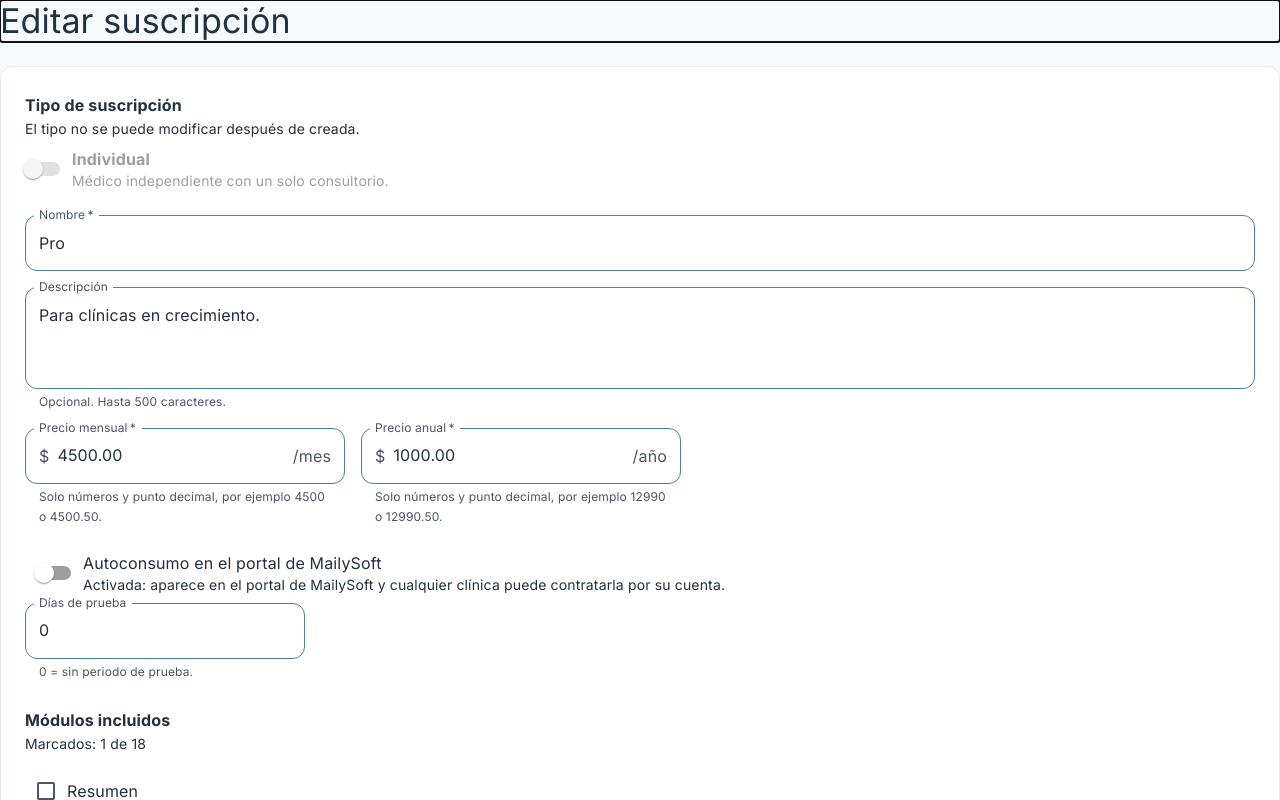
Scenario: SubscriptionEditPage › sending only what changed (FR-012) › sends null when the description was emptied, and the whole list when an element was removed
Step 1. Clear the text box labelled "Descripción" → (640, 338), box [39,304,1241,372]
(page scrolled)
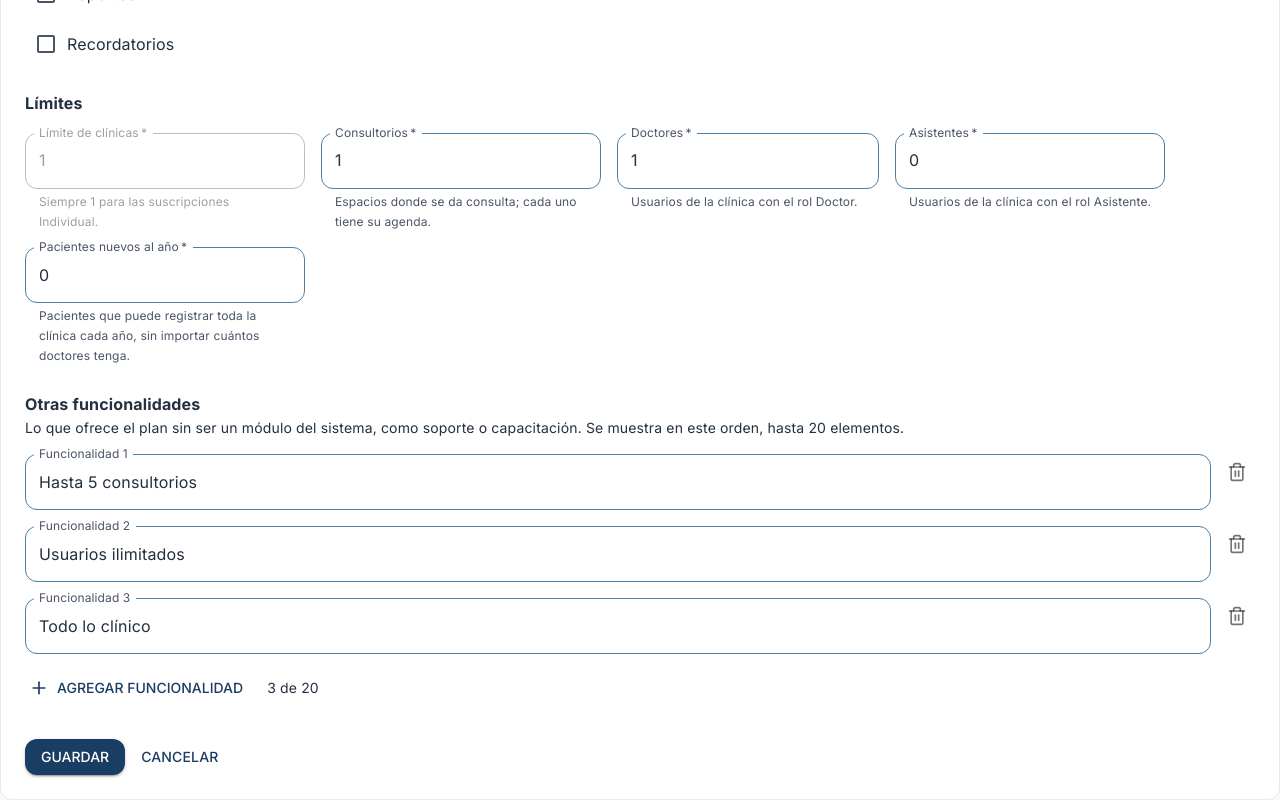
Step 2. Click the button named "Quitar la funcionalidad 2" → (1237, 544), box [1219,526,1255,562]
(page scrolled)
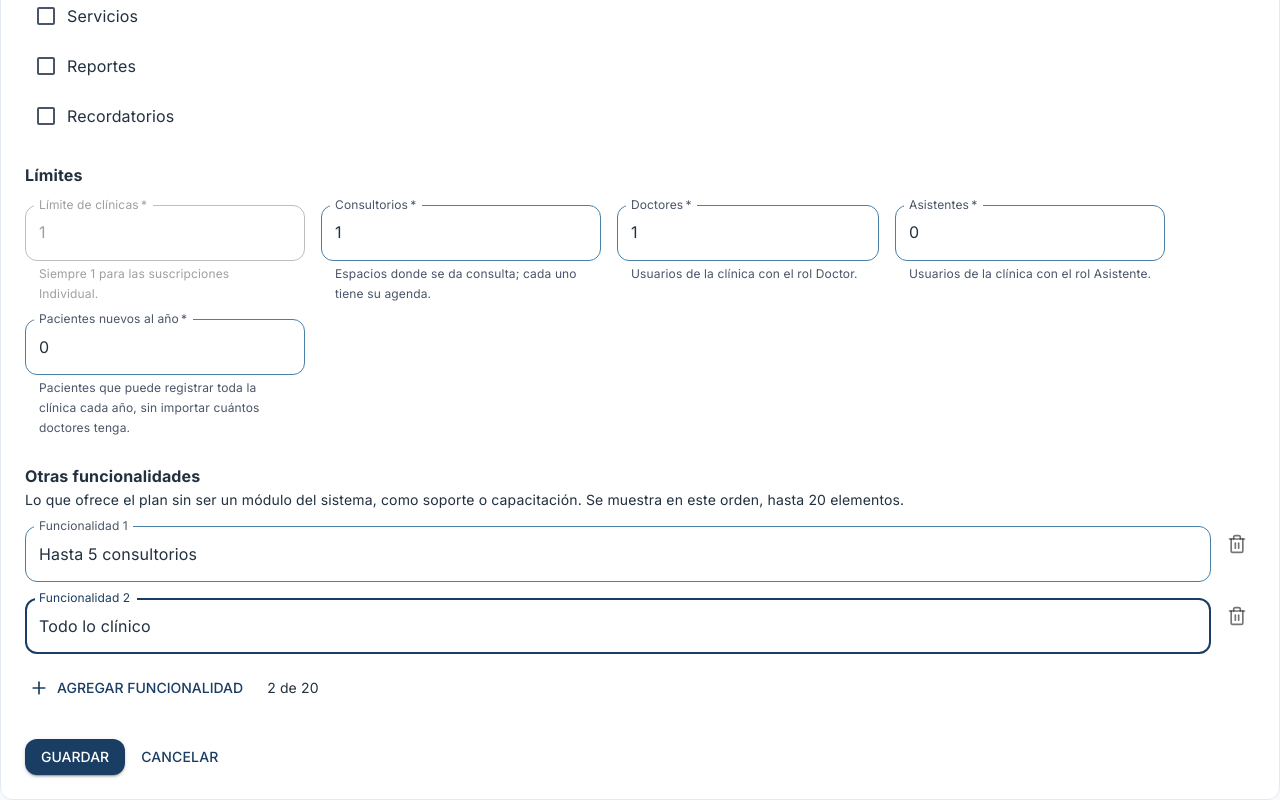
Step 3. Click the button "Guardar" → (75, 757), box [25,739,125,775]
(page scrolled)
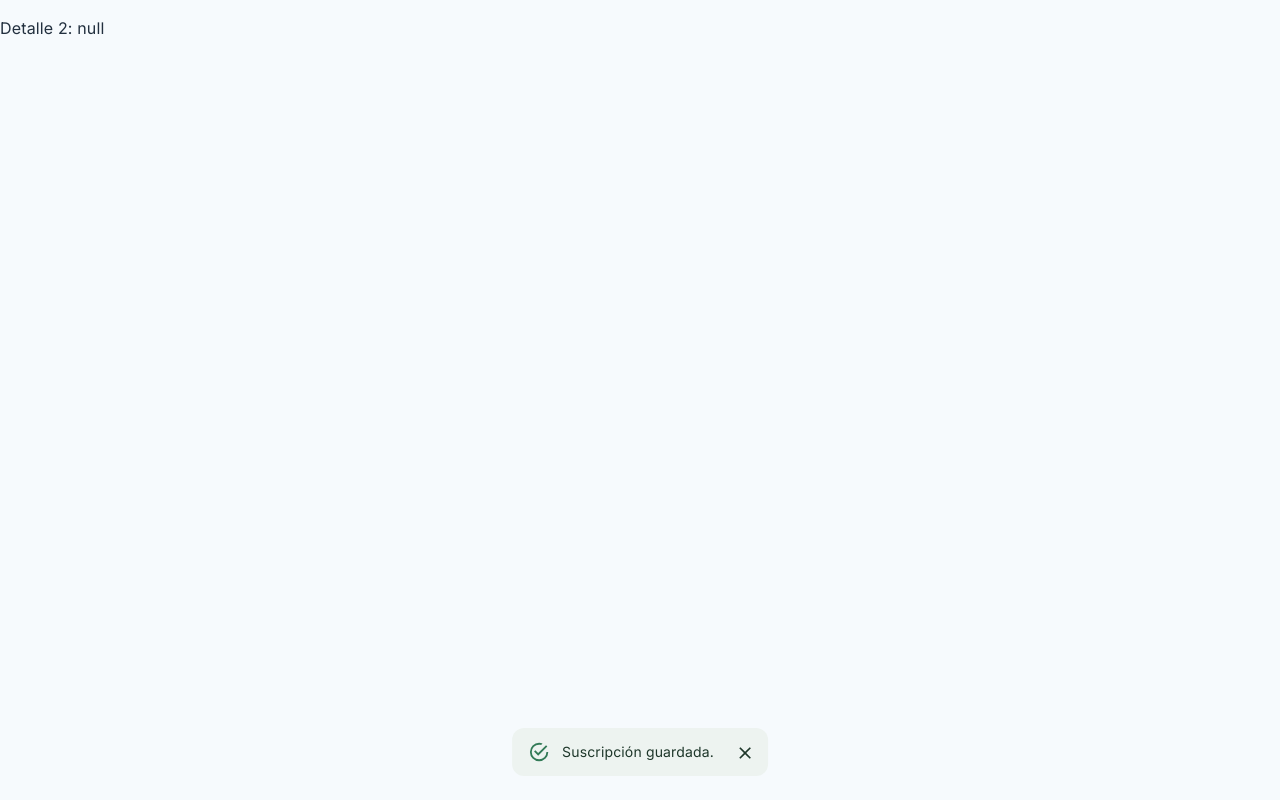
Now the text "Detalle 2: null" is shown, box [0,18,104,38]
